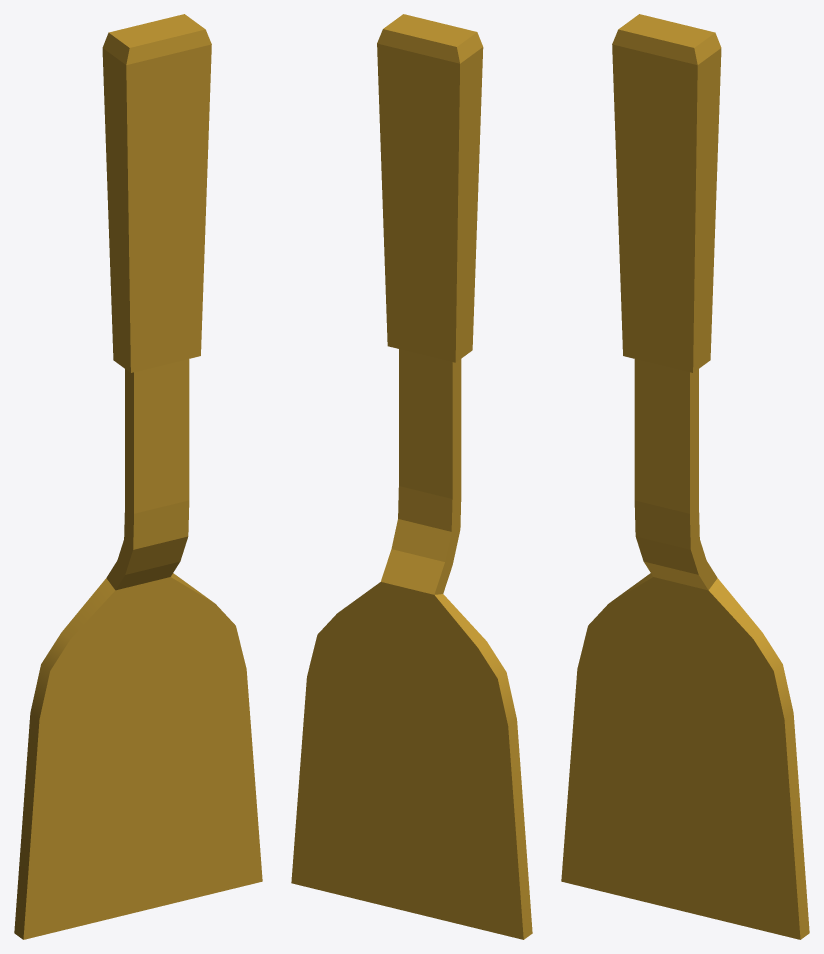
File: SM_spatula.fbx
3 renders of one model, left to right at view 1: azimuth 30°, elevation 25°; view 2: azimuth 150°, elevation 25°; view 3: azimuth 330°, elevation 25°, orthographic. The views are drawn at different scales.
Parts seen in each view (by area): view 1: Object32350; view 2: Object32350; view 3: Object32350.
Part boxes in pixels (<box>): Object32350: <box>14,14,262,939</box>; Object32350: <box>291,14,532,939</box>; Object32350: <box>561,14,809,939</box>.
Size of the model in its own units: 4.51 by 16.05 by 1.15.
